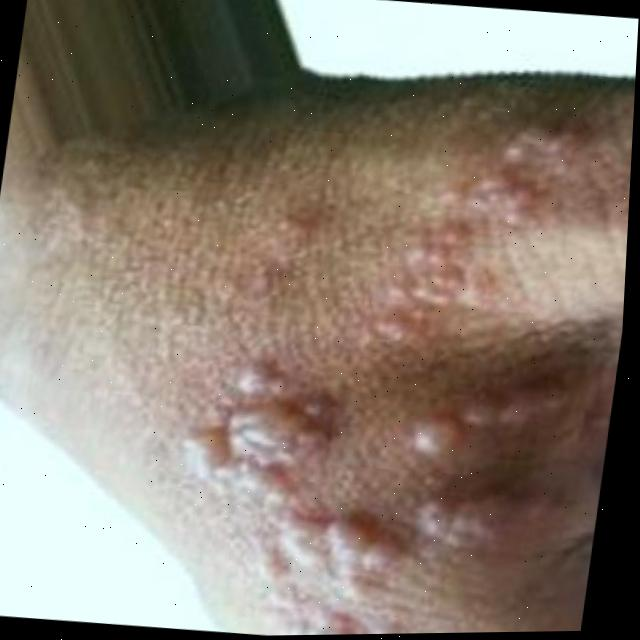Shingles: (164, 350, 445, 637), (349, 101, 597, 375), (402, 367, 568, 476), (407, 469, 566, 549)
